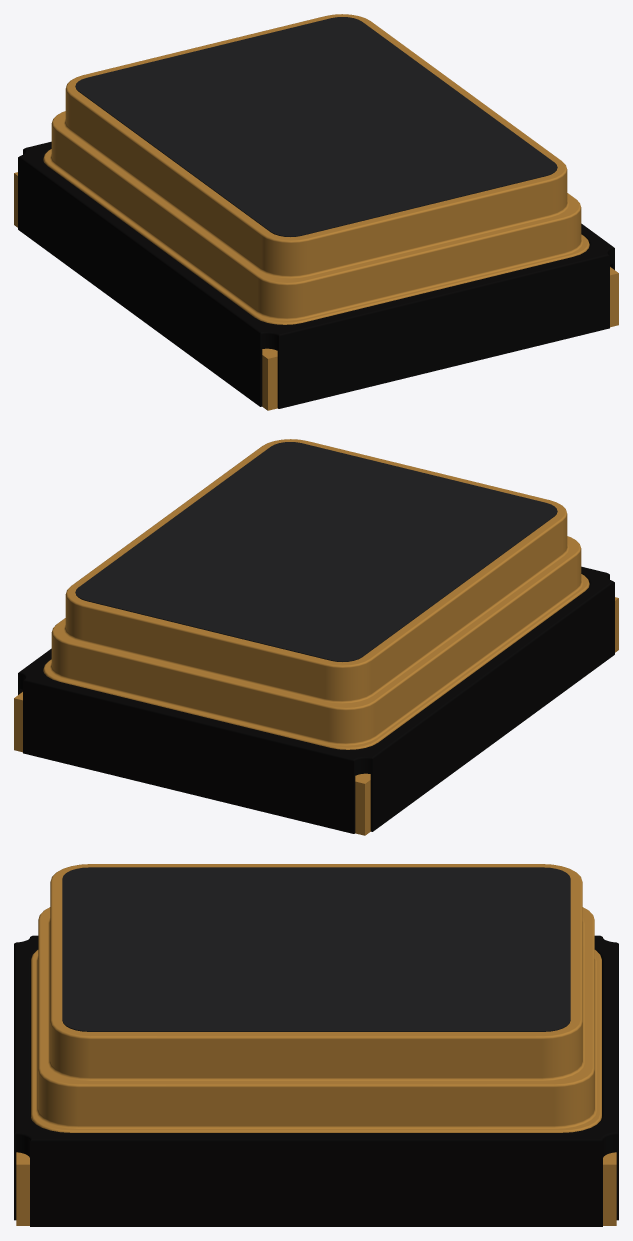
File: Y2_Crystal_SMD_2520-4Pin_2.5x2.0mm.obj
The picture shows the model from 3 angles, top to bottom: view 1: azimuth 30°, elevation 25°; view 2: azimuth 150°, elevation 25°; view 3: azimuth 270°, elevation 25°; orthographic projection. The views are drawn at different scales.
Visible parts, largest first — view 1: Y2; view 2: Y2; view 3: Y2.
Part boxes in pixels (x1,y1,x2,y2): Y2: [14, 14, 618, 410]; Y2: [14, 439, 618, 835]; Y2: [14, 864, 618, 1226].
Bounding box in the file's own units: 0.02 × 0.0083 × 0.025.
